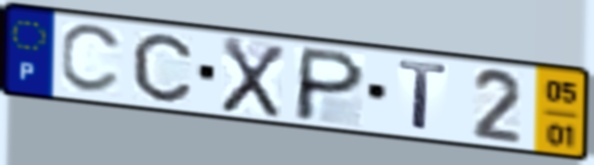2: (470, 67, 526, 147)
C: (58, 22, 127, 97), (129, 30, 195, 105)
P: (290, 44, 369, 125)
T: (396, 57, 451, 135)
X: (217, 33, 288, 121)
